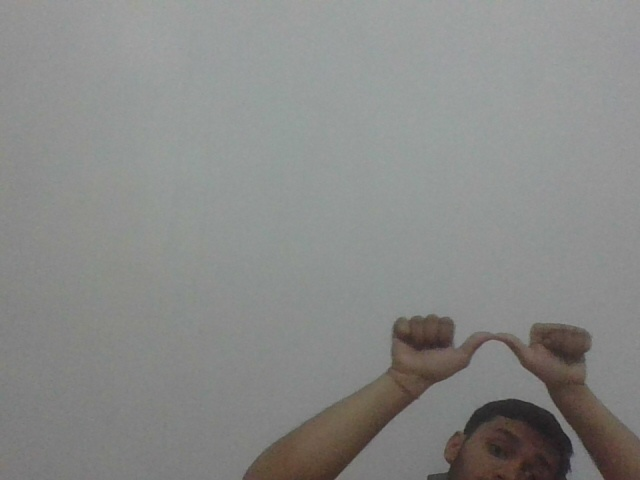A: (386, 312, 593, 381)
